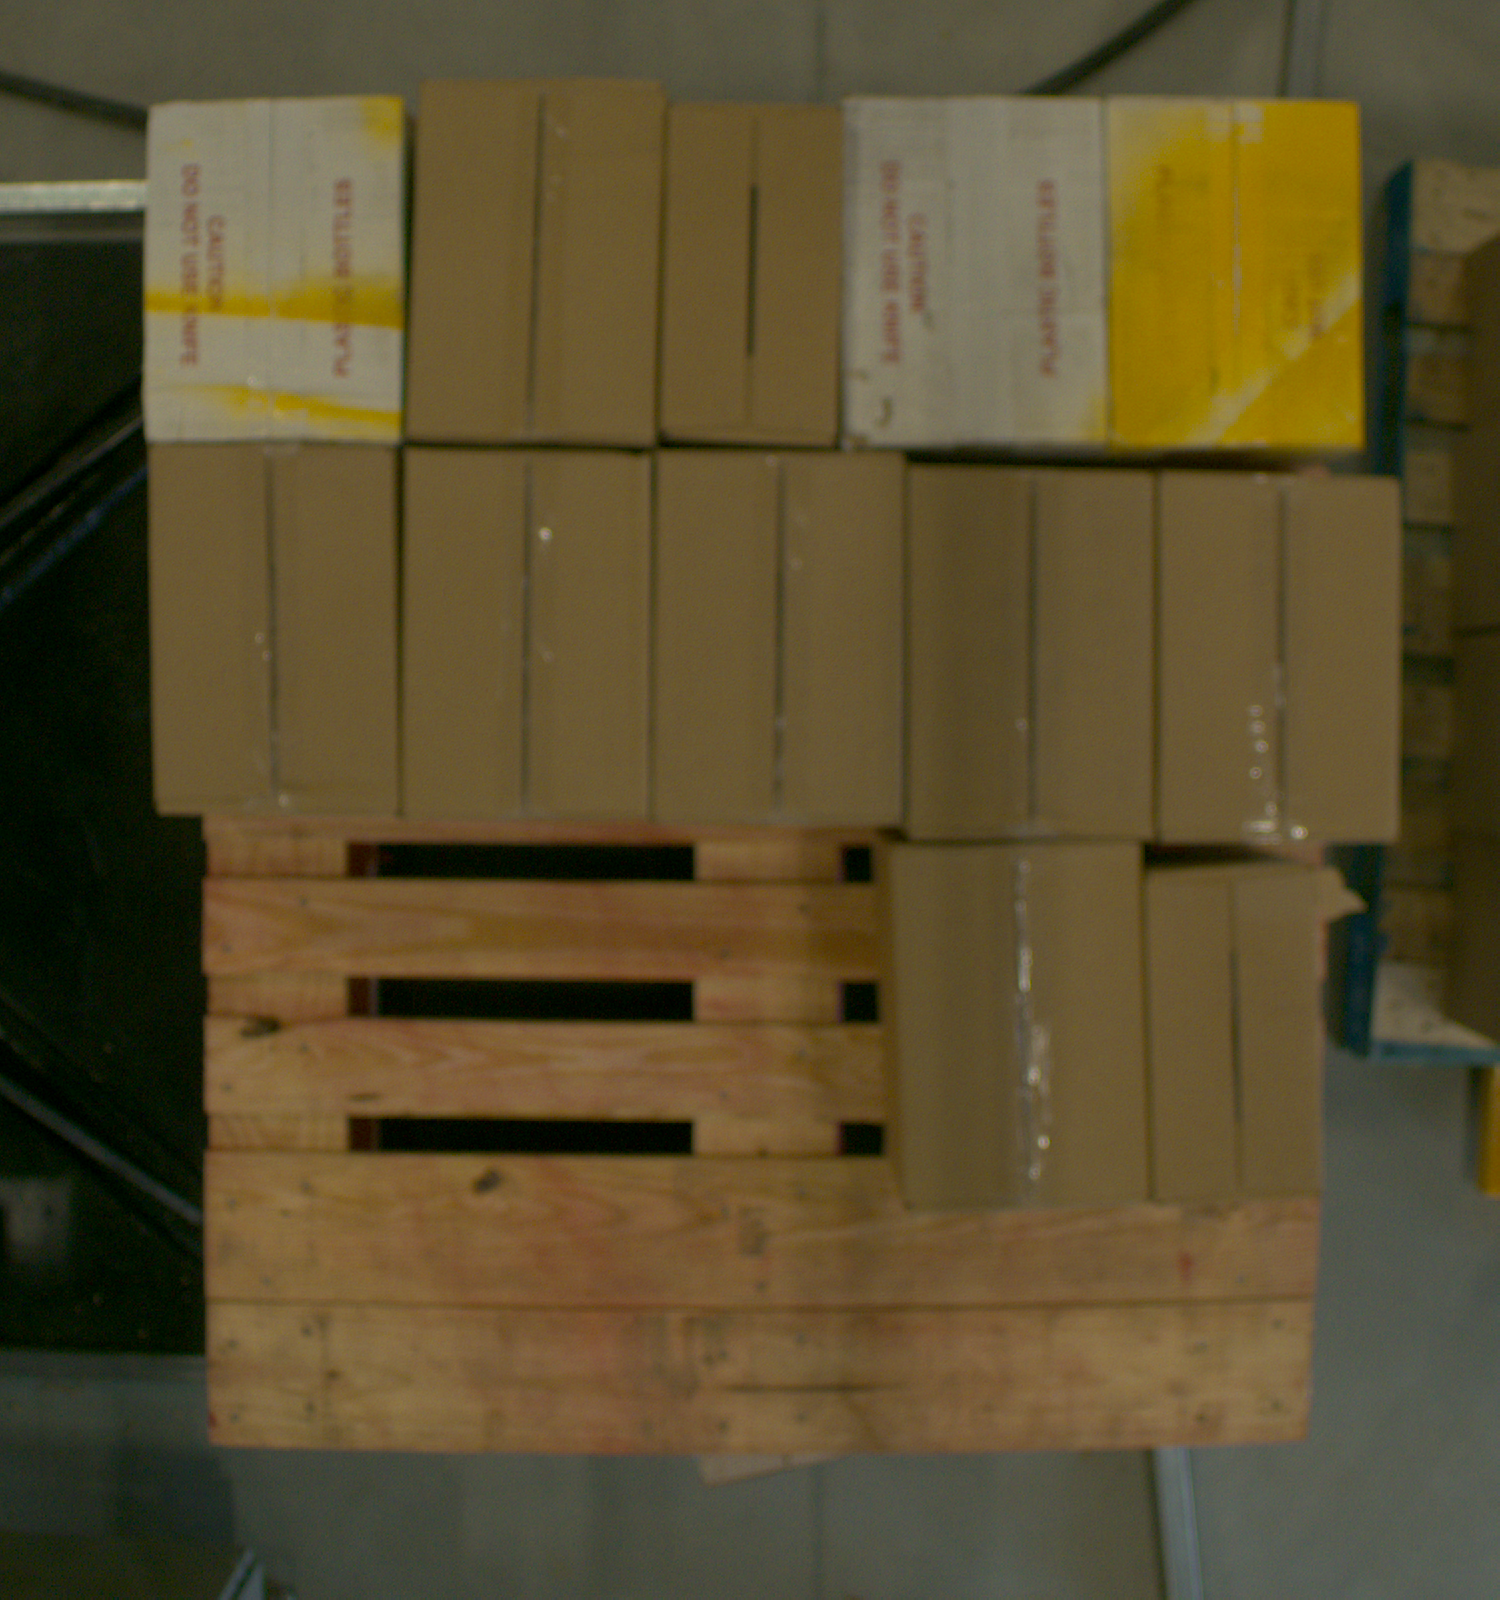box top: (651, 460, 905, 833), (407, 78, 663, 443), (908, 469, 1156, 839), (144, 97, 405, 445), (403, 450, 651, 815), (849, 97, 1107, 447), (155, 453, 405, 812), (899, 846, 1149, 1202), (1111, 99, 1363, 450), (1162, 475, 1398, 843), (661, 103, 844, 443), (1150, 870, 1328, 1200)
